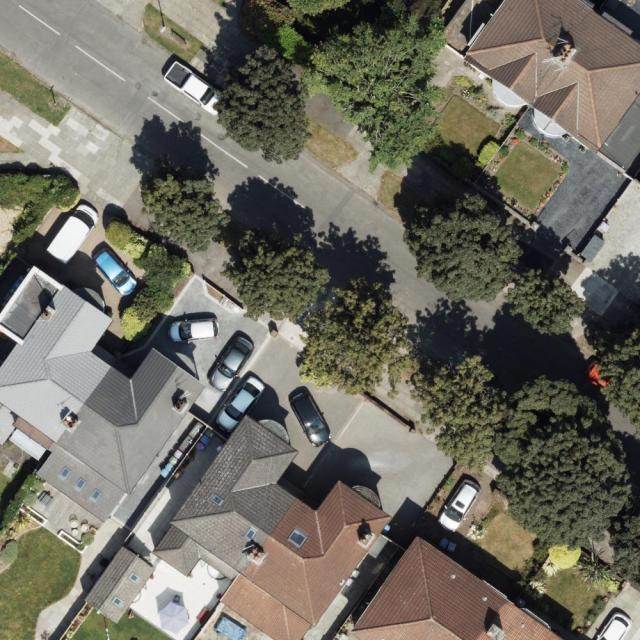roof: (151, 414, 393, 640), (0, 266, 205, 526), (461, 0, 639, 156), (350, 533, 570, 640), (83, 545, 155, 626)
skylight: (286, 528, 310, 548), (242, 526, 258, 543), (89, 489, 104, 503), (211, 493, 227, 506), (58, 467, 71, 480), (74, 478, 86, 492), (111, 595, 123, 607), (129, 571, 140, 581)
